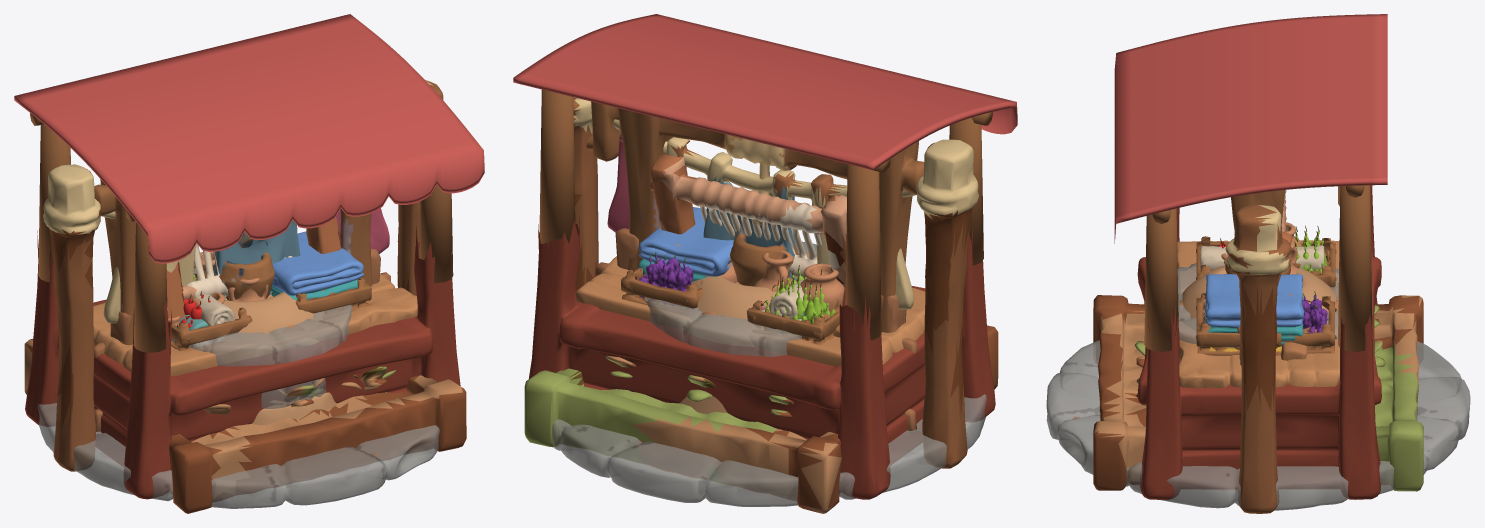
Rendered from generated.glb.
3 renders of one model, left to right at view 1: azimuth 30°, elevation 25°; view 2: azimuth 150°, elevation 25°; view 3: azimuth 270°, elevation 25°, orthographic. The views are drawn at different scales.
Parts seen in each view (by area): view 1: pottery_stall, well, garden_bed, clothesline, table, cloth_stall, oven, fruit_stall, loom, fence; view 2: pottery_stall, well, clothesline, garden_bed, loom, fruit_stall, table, oven, cloth_stall, fence; view 3: pottery_stall, well, garden_bed, clothesline, table, fruit_stall, cloth_stall, oven, bench.
Boxes of the visible parts, left/top/right/bottom form: pottery_stall: left=14, top=14, right=484, bottom=499; well: left=37, top=179, right=439, bottom=508; garden_bed: left=24, top=339, right=466, bottom=513; clothesline: left=43, top=80, right=443, bottom=471; table: left=93, top=273, right=417, bottom=376; cloth_stall: left=191, top=231, right=363, bottom=346; oven: left=221, top=292, right=337, bottom=425; fruit_stall: left=168, top=270, right=371, bottom=351; loom: left=166, top=217, right=350, bottom=321; fence: left=93, top=249, right=390, bottom=432; pottery_stall: left=513, top=14, right=1017, bottom=499; well: left=552, top=101, right=986, bottom=506; clothesline: left=573, top=97, right=978, bottom=468; garden_bed: left=524, top=325, right=998, bottom=513; loom: left=649, top=153, right=846, bottom=287; fruit_stall: left=621, top=252, right=842, bottom=344; table: left=576, top=256, right=925, bottom=366; oven: left=679, top=252, right=808, bottom=413; cloth_stall: left=638, top=207, right=804, bottom=320; fence: left=596, top=228, right=917, bottom=433; pottery_stall: left=1114, top=14, right=1387, bottom=499; well: left=1046, top=190, right=1470, bottom=510; garden_bed: left=1093, top=295, right=1423, bottom=491; clothesline: left=1225, top=205, right=1291, bottom=513; table: left=1177, top=240, right=1339, bottom=388; fruit_stall: left=1195, top=225, right=1336, bottom=355; cloth_stall: left=1200, top=245, right=1324, bottom=351; oven: left=1178, top=265, right=1338, bottom=330; bench: left=1281, top=327, right=1316, bottom=360.
Size of the model in its own units: 2.8 by 2.18 by 2.56.
Materials: 34 (1 with a texture image).
